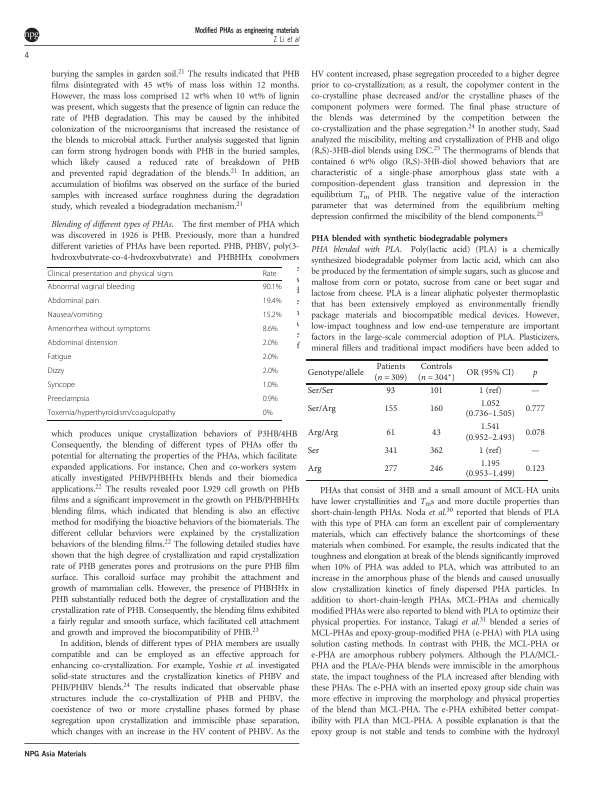borderless: (46, 265, 282, 420), (306, 358, 548, 481)
cell: (46, 408, 176, 418), (47, 269, 174, 278), (464, 399, 515, 420), (464, 422, 515, 443), (464, 459, 515, 480), (47, 324, 151, 334), (47, 282, 136, 292), (417, 362, 456, 383), (373, 362, 408, 383), (47, 338, 119, 348), (306, 367, 364, 378), (47, 310, 103, 320), (465, 367, 515, 378), (47, 296, 100, 306), (47, 394, 90, 404), (306, 427, 339, 438), (306, 404, 336, 414), (47, 380, 76, 390), (306, 386, 334, 396), (47, 352, 72, 362), (478, 386, 502, 396), (478, 446, 502, 456), (524, 427, 545, 438), (524, 464, 545, 475), (524, 404, 545, 414), (262, 282, 282, 292), (262, 296, 282, 306), (262, 310, 282, 320), (47, 366, 65, 376), (306, 464, 322, 475), (262, 324, 279, 334), (262, 338, 279, 348), (262, 352, 279, 362), (262, 366, 279, 376), (262, 380, 279, 390), (262, 394, 279, 404), (383, 464, 398, 475), (429, 464, 444, 475), (429, 386, 444, 396), (383, 404, 398, 414), (429, 404, 444, 414), (383, 446, 398, 456), (429, 446, 444, 456), (262, 269, 278, 278), (306, 446, 320, 456), (385, 427, 396, 438), (262, 408, 273, 418), (385, 386, 396, 396), (431, 427, 441, 438), (532, 369, 538, 378), (530, 390, 540, 394), (530, 450, 540, 454)
